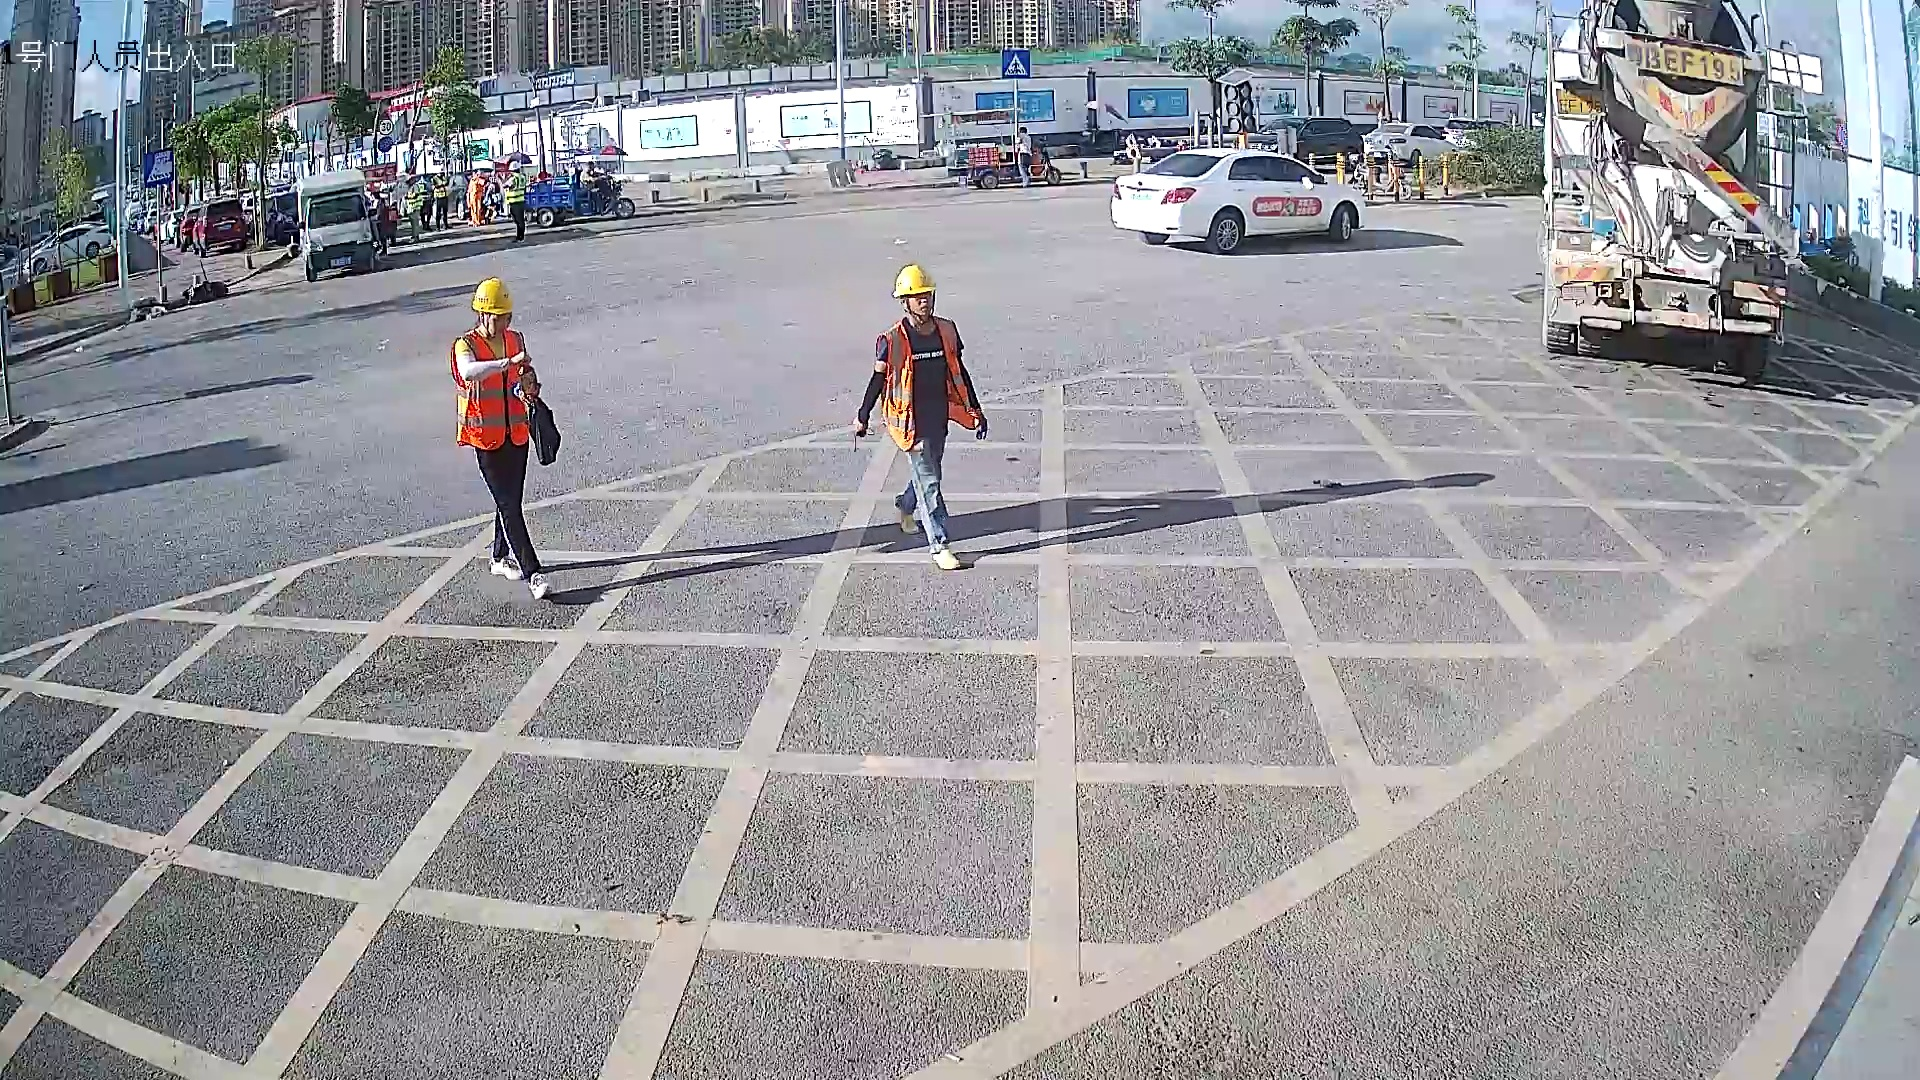person: (847, 258, 991, 575), (445, 270, 562, 605), (502, 160, 529, 244)
reflective_vest: (874, 316, 980, 453), (447, 325, 530, 452), (504, 173, 527, 203)
safety_helmet: (468, 272, 515, 340), (890, 259, 940, 319), (507, 160, 521, 173)
